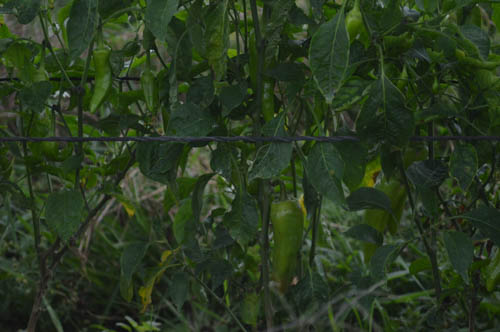ChiliPepper: (363, 179, 406, 253), (246, 34, 280, 119), (265, 204, 303, 273), (88, 51, 114, 112), (132, 77, 159, 111), (346, 13, 360, 39)
